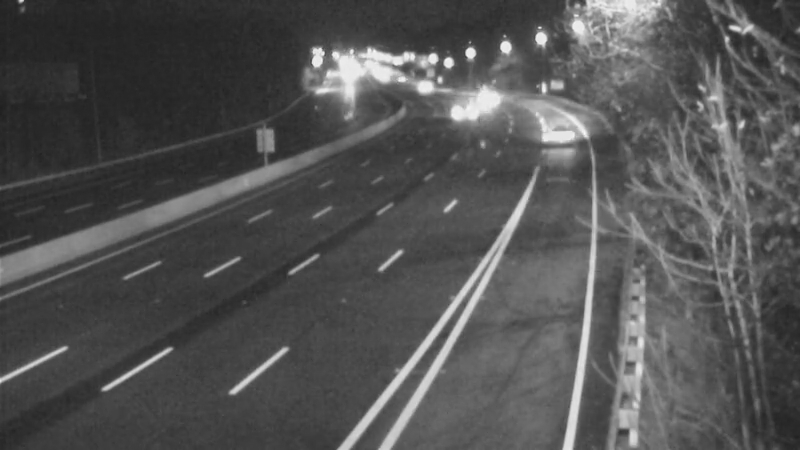vehicle: (392, 59, 442, 109), (472, 76, 522, 126), (431, 88, 481, 138), (536, 108, 586, 158)
